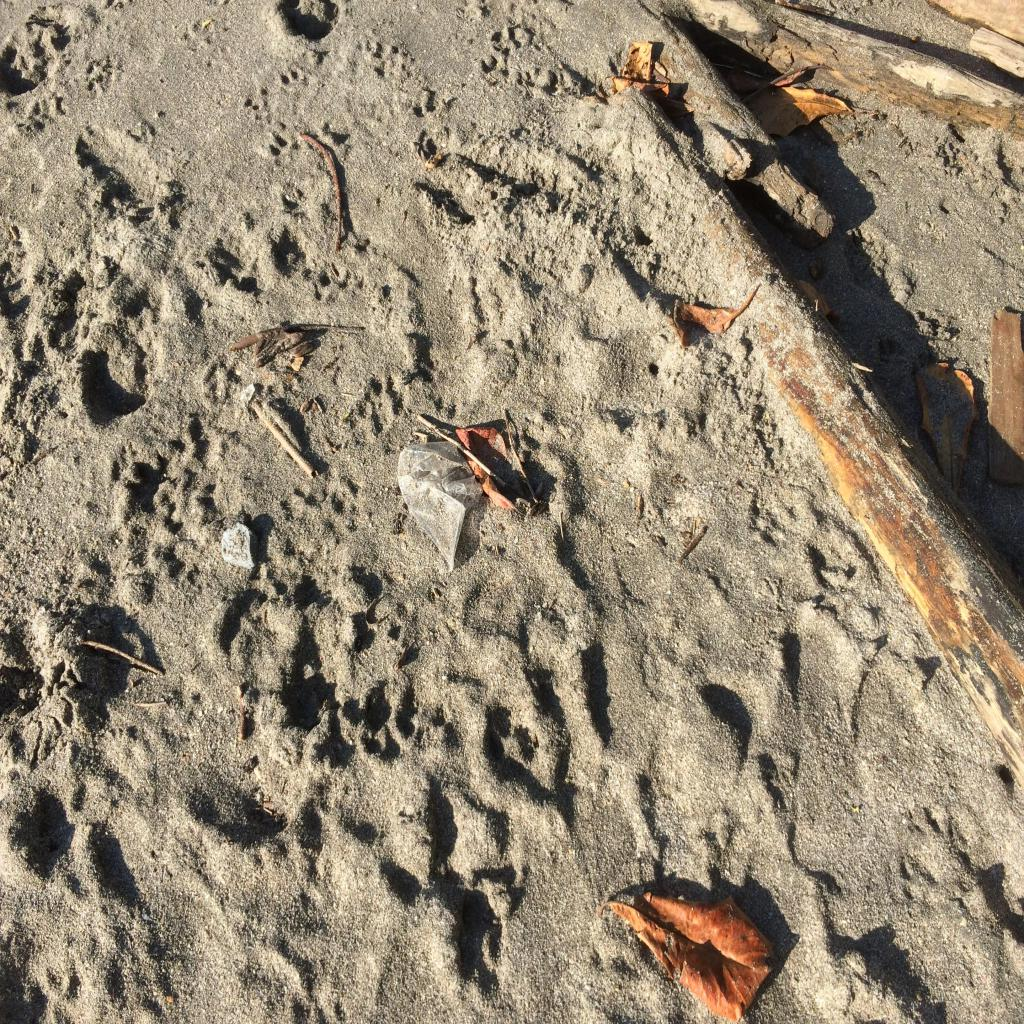Plastic film: (398, 441, 482, 573)
